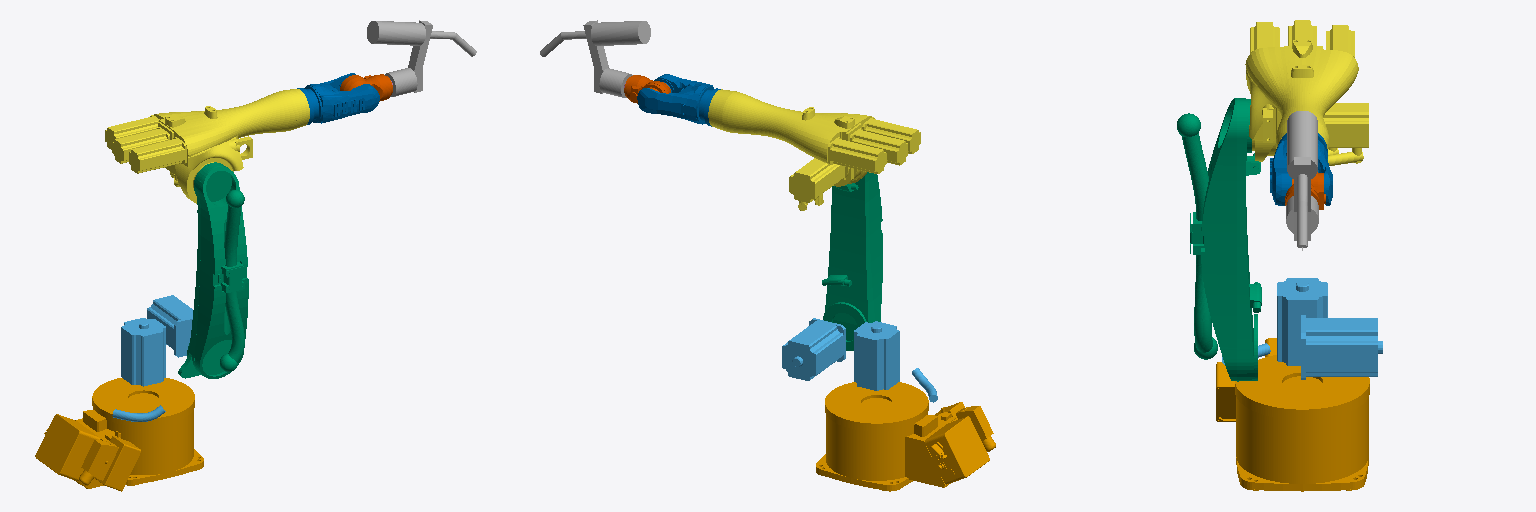
robot.urdf — kuka_kr5_arc:
<robot  name="kuka_kr5_arc">

<link name="Base"> 
 <visual> 
    <origin xyz="0 0 0" rpy="0 0 0" /> 
    <geometry> 
      <mesh filename="package://kuka_description/meshes/kuka_kr5_arc/visual/Base.stl" 
	scale=".001 .001 .001"/> 
      </geometry> 
 </visual> 
 <collision> 
    <origin xyz="0 0 0" rpy="0 0 0" /> 
    <geometry> 
      <mesh filename="package://kuka_description/meshes/kuka_kr5_arc/visual/Base.stl" 
	scale=".001 .001 .001"/> 
      </geometry> 
 </collision> 
</link>		

<link name="Link1"> 
 <visual> 
    <origin xyz="0 0 -0.225" rpy="0 0 0" /> 
    <geometry> 
      <mesh filename="package://kuka_description/meshes/kuka_kr5_arc/visual/Link1.stl" 
	scale=".001 .001 .001"/> 
      </geometry> 
 </visual> 
 <collision> 
    <origin xyz="0 0 -0.225" rpy="0 0 0" /> 
    <geometry> 
      <mesh filename="package://kuka_description/meshes/kuka_kr5_arc/visual/Link1.stl" 
	scale=".001 .001 .001"/> 
      </geometry> 
 </collision> 
</link>

<link name="Link2"> 
 <visual> 
    <origin xyz="-0.180 0 -0.400" rpy="0 0 0" /> 
    <geometry> 
      <mesh filename="package://kuka_description/meshes/kuka_kr5_arc/visual/Link2.stl" 
	scale=".001 .001 .001"/> 
      </geometry> 
 </visual> 
 <collision> 
    <origin xyz="-0.180 0 -0.400" rpy="0 0 0" /> 
    <geometry> 
      <mesh filename="package://kuka_description/meshes/kuka_kr5_arc/visual/Link2.stl" 
	scale=".001 .001 .001"/> 
      </geometry> 
 </collision> 
</link>			

<link name="Link3"> 
 <visual> 
    <origin xyz="-0.180 0 -1.0" rpy="0 0 0" /> 
    <geometry> 
      <mesh filename="package://kuka_description/meshes/kuka_kr5_arc/visual/Link3.stl" 
	scale=".001 .001 .001"/> 
      </geometry> 
 </visual> 
 <collision> 
    <origin xyz="-0.180 0 -1.0" rpy="0 0 0" /> 
    <geometry> 
      <mesh filename="package://kuka_description/meshes/kuka_kr5_arc/visual/Link3.stl" 
	scale=".001 .001 .001"/> 
      </geometry> 
 </collision> 
</link>			

<link name="Link4"> 
 <visual> 
    <origin xyz="-0.5835 0 -1.12" rpy="0 0 0" /> 
    <geometry> 
      <mesh filename="package://kuka_description/meshes/kuka_kr5_arc/visual/Link4.stl" 
	scale=".001 .001 .001"/> 
      </geometry> 
 </visual> 
 <collision> 
    <origin xyz="-0.5835 0 -1.12" rpy="0 0 0" /> 
    <geometry> 
      <mesh filename="package://kuka_description/meshes/kuka_kr5_arc/visual/Link4.stl" 
	scale=".001 .001 .001"/> 
      </geometry> 
 </collision> 
</link>	

<link name="Link5">
 <visual> 
    <origin xyz="-0.800 0 -1.12" rpy="0 0 0" /> 
    <geometry> 
      <mesh filename="package://kuka_description/meshes/kuka_kr5_arc/visual/Link5.stl" 
	scale=".001 .001 .001"/> 
      </geometry> 
 </visual> 
 <collision> 
    <origin xyz="-0.800 0 -1.12" rpy="0 0 0" /> 
    <geometry> 
      <mesh filename="package://kuka_description/meshes/kuka_kr5_arc/visual/Link5.stl" 
	scale=".001 .001 .001"/> 
      </geometry> 
 </collision>  
 </link>	

<link name="Link6"> 
 <visual> 
    <origin xyz="-0.9088 0 -1.12" rpy="0 0 0" /> 
    <geometry> 
      <mesh filename="package://kuka_description/meshes/kuka_kr5_arc/visual/Link6.stl" 
	scale=".001 .001 .001"/> 
      </geometry> 
 </visual> 
 <collision> 
    <origin xyz="-0.9088 0 -1.12" rpy="0 0 0" /> 
    <geometry> 
      <mesh filename="package://kuka_description/meshes/kuka_kr5_arc/visual/Link6.stl" 
	scale=".001 .001 .001"/> 
      </geometry> 
 </collision> 
</link>	

<link name="Link7"> 
 <visual> 
    <origin xyz="0 0 0" rpy="0 0 0" /> 
    <geometry> 
      <mesh filename="package://kuka_description/meshes/Welding_Torch/Assembly4_origin_tip3.stl" 
	scale=".01 .01 .01"/> 
      </geometry> 
 </visual> 
 <collision> 
    <origin xyz="0 0 0" rpy="0 0 0" /> 
    <geometry> 
      <mesh filename="package://kuka_description/meshes/Welding_Torch/Assembly4_origin_tip3.stl" 
	scale=".01 .01 .01"/> 
      </geometry> 
 </collision> 
</link>		

<link name="Link8"/>

<link name="odom_combined"/>

<joint name="joint1" type="revolute">	
  <parent link="Base" /> 
  <child link="Link1" />
  <origin xyz="0 0 0.225" rpy="0 0 0" />	 
  <axis xyz="0 0 -1" />
  <limit lower="-2.70526034" upper="2.70526034" effort="0" velocity="0" />
</joint>

<joint name="joint2" type="revolute"> 
  <parent link="Link1" /> 
  <child link="Link2" /> 
  <origin xyz="0.180 0 0.175" rpy="0 0 0" />
  <axis xyz="0 1 0" />
  <limit lower="-3.1415927" upper="1.13446401" effort="0" velocity="0" />	
</joint>

<joint name="joint3" type="revolute"> 
  <parent link="Link2" /> 
  <child link="Link3" /> 
  <origin xyz="0 0 0.600" rpy="0 0 0" />
  <axis xyz="0 1 0" />
  <limit lower="-0.2617994" upper="2.75762022" effort="0" velocity="0" />
</joint>

<joint name="joint4" type="revolute"> 
  <parent link="Link3" /> 
  <child link="Link4" /> 
  <origin xyz="0.4035 0 0.120" rpy="0 0 0" />
  <axis xyz="-1 0 0" />
  <limit lower="-6.10865238" upper="6.10865238" effort="0" velocity="0" />
</joint>

<joint name="joint5" type="revolute"> 
  <parent link="Link4" /> 
  <child link="Link5" /> 
  <origin xyz="0.2165 0 0" rpy="0 0 0" />
  <axis xyz="0 1 0" />
  <limit lower="-2.26892803" upper="2.26892803" effort="0" velocity="0" />
</joint>

<joint name="joint6" type="revolute"> 
  <parent link="Link5" /> 
  <child link="Link6" /> 
  <origin xyz="0.1088 0 0" rpy="0 0 0" />
  <axis xyz="-1 0 0" />
  <limit lower="-6.10865238" upper="6.10865238" effort="0" velocity="0" />
</joint>

<joint name="joint7" type="fixed"> 
  <parent link="Link6" /> 
  <child link="Link7" /> 
  <origin xyz="0.326 0 0.034" rpy="0 0 3.141529" />
</joint>

<joint name="joint8" type="fixed">
  <parent link="Link7"/> 
  <child link="Link8"/> 
  <origin xyz="0 0 0" rpy="0 0.78538225 3.141529" />
</joint>  

<joint name="fixed" type="fixed">
  <parent link="odom_combined"/> 
  <child link="Base"/> 
</joint>  


</robot>

--- Facts derived from the render (not from the file) ---
The picture shows the robot from 3 angles, left to right: view 1: azimuth 30°, elevation 25°; view 2: azimuth 150°, elevation 25°; view 3: azimuth 270°, elevation 25°; orthographic projection.
Robot: kuka_kr5_arc — 10 links, 9 joints (6 revolute, 3 fixed); root link odom_combined; default pose: every joint at zero.
Links seen in each view (by area): view 1: Base, Link2, Link3, Link1, Link7, Link4, Link5; view 2: Base, Link3, Link2, Link1, Link7, Link4, Link5; view 3: Base, Link2, Link3, Link1, Link7, Link4.
Link boxes in pixels (left/top/right/bottom): Base: left=35, top=378, right=203, bottom=491; Link2: left=178, top=162, right=248, bottom=378; Link3: left=105, top=89, right=309, bottom=203; Link1: left=112, top=295, right=192, bottom=421; Link7: left=367, top=20, right=476, bottom=96; Link4: left=297, top=73, right=379, bottom=124; Link5: left=340, top=74, right=392, bottom=101; Base: left=816, top=382, right=995, bottom=491; Link3: left=708, top=89, right=920, bottom=210; Link2: left=822, top=172, right=882, bottom=350; Link1: left=782, top=318, right=937, bottom=402; Link7: left=540, top=20, right=650, bottom=97; Link4: left=637, top=74, right=720, bottom=126; Link5: left=624, top=75, right=670, bottom=103; Base: left=1216, top=338, right=1369, bottom=491; Link2: left=1177, top=98, right=1261, bottom=381; Link3: left=1245, top=20, right=1368, bottom=165; Link1: left=1222, top=278, right=1382, bottom=379; Link7: left=1286, top=111, right=1318, bottom=250; Link4: left=1270, top=133, right=1332, bottom=205.
Bounding box of the posed robot: 1.6 × 0.5075 × 1.36 m (x, y, z).
Meshes: 8 distinct files referenced, 8 mesh visuals loaded (8 binary STL).